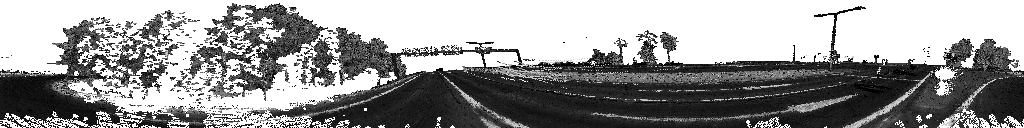gantry_sign_pole: (401, 46, 522, 63)
light_pole: (814, 7, 865, 74), (467, 42, 493, 46), (792, 45, 795, 60)
traffic_pole: (930, 66, 958, 97), (586, 60, 596, 75), (874, 56, 878, 66)
